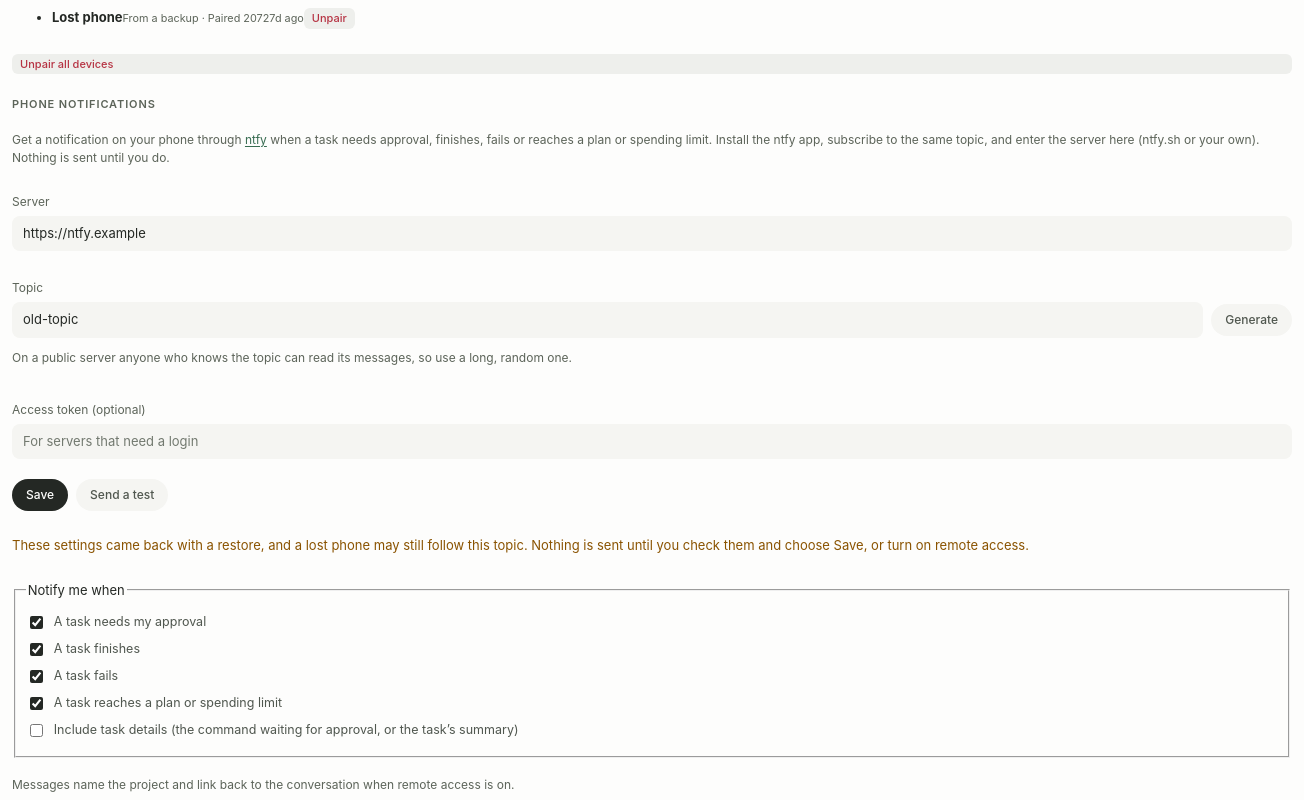
Test case: marks what came back with a restore until it is confirmed
(page scrolled)
Expected: the text "From a backup · Paired 20727d ago" is shown, [122, 12, 304, 25]
Expected: the text "Nothing is sent until you check them and choose Save" is shown, [12, 537, 1029, 553]
Click the button "Save".
click(40, 495)  # box [12, 479, 68, 511]
(page scrolled)
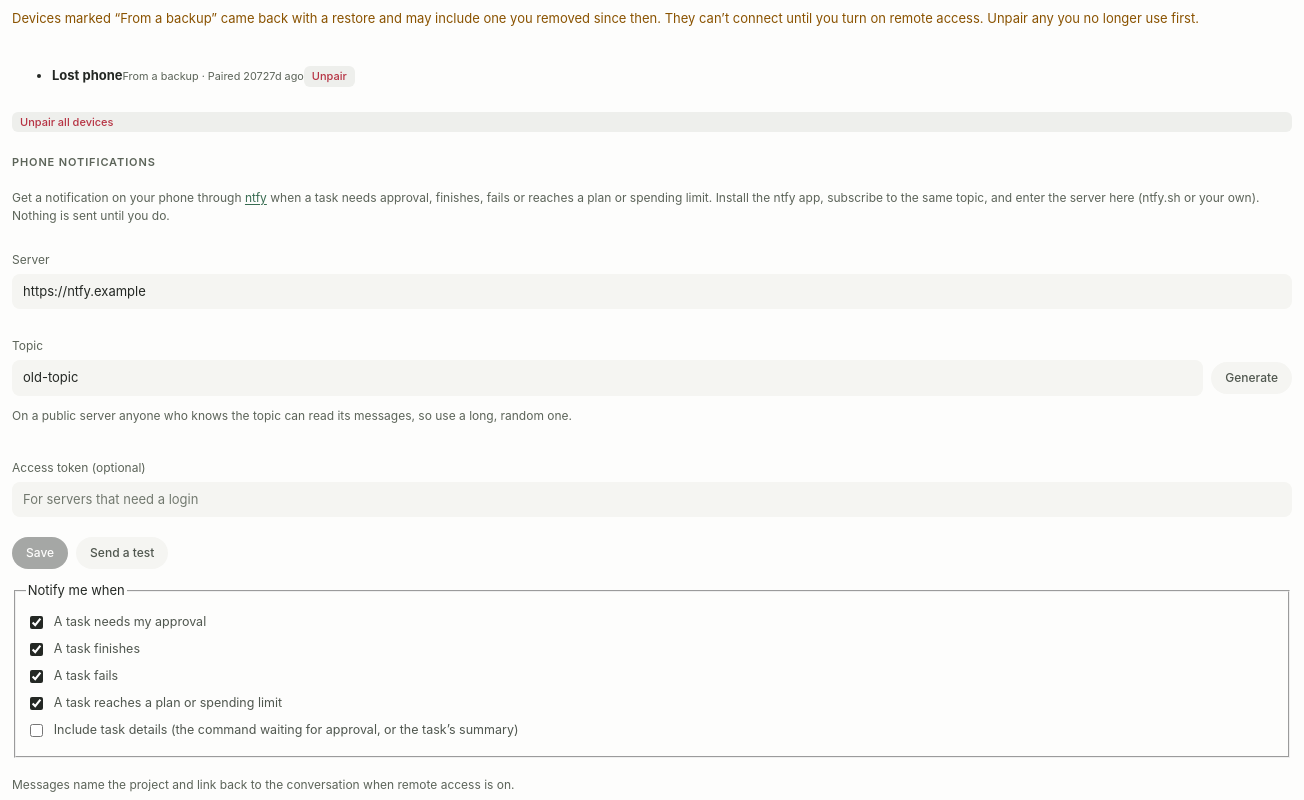
Result: the text "Nothing is sent until you check them" is gone
